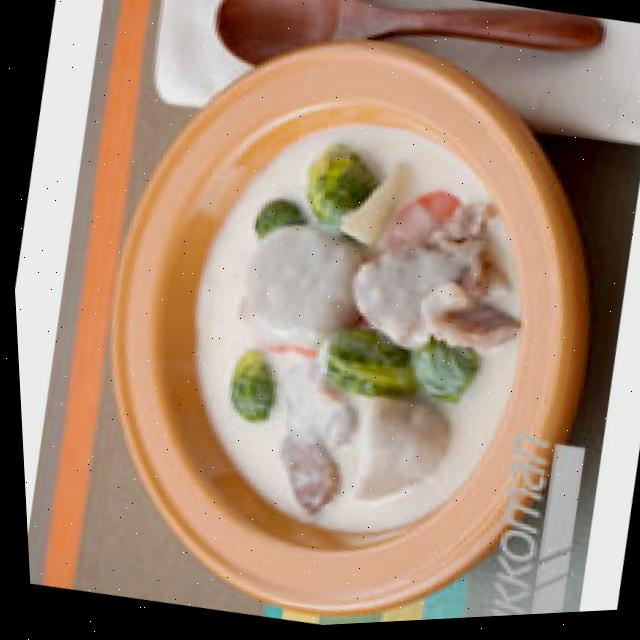汤锅炖物: (33, 0, 582, 639)
